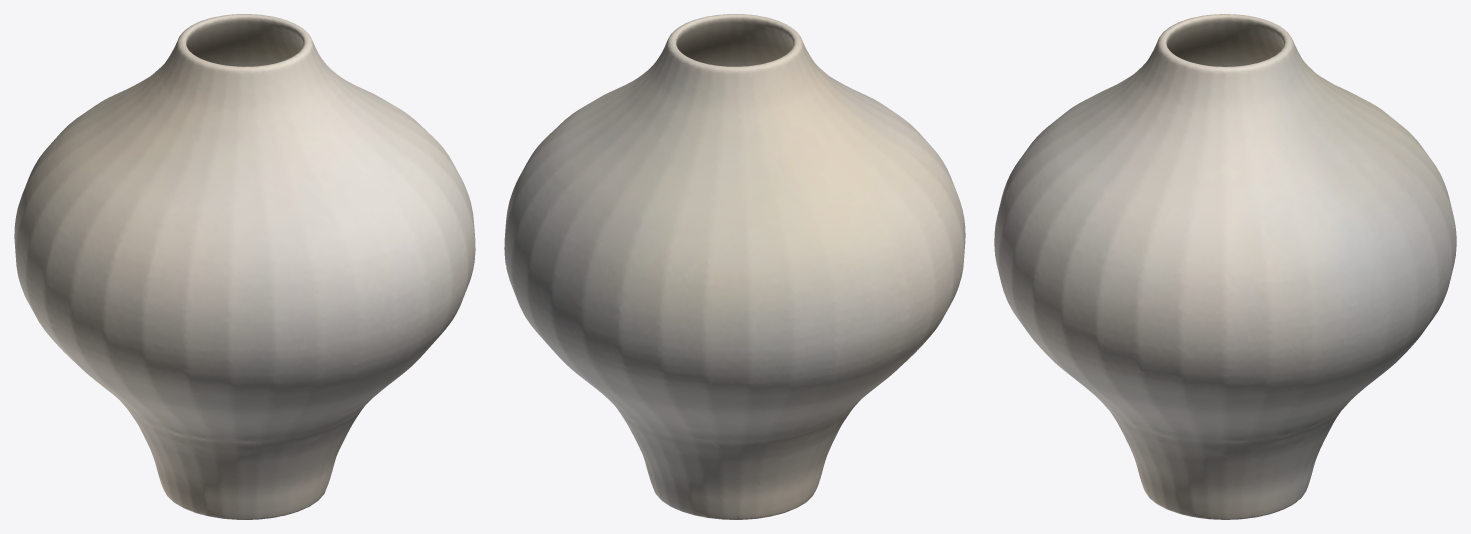
Rendered from niche-vase-matte-organic.glb.
3 renders of one model, left to right at view 1: azimuth 30°, elevation 25°; view 2: azimuth 150°, elevation 25°; view 3: azimuth 270°, elevation 25°, orthographic.
Parts seen in each view (by area): view 1: world; view 2: world; view 3: world.
Part boxes in pixels (<box>): world: <box>14,14,475,519</box>; world: <box>504,14,965,519</box>; world: <box>994,14,1456,519</box>.
Bounding box in the file's own units: 0.9367 × 1 × 0.937.
1 material, 1 textured.
